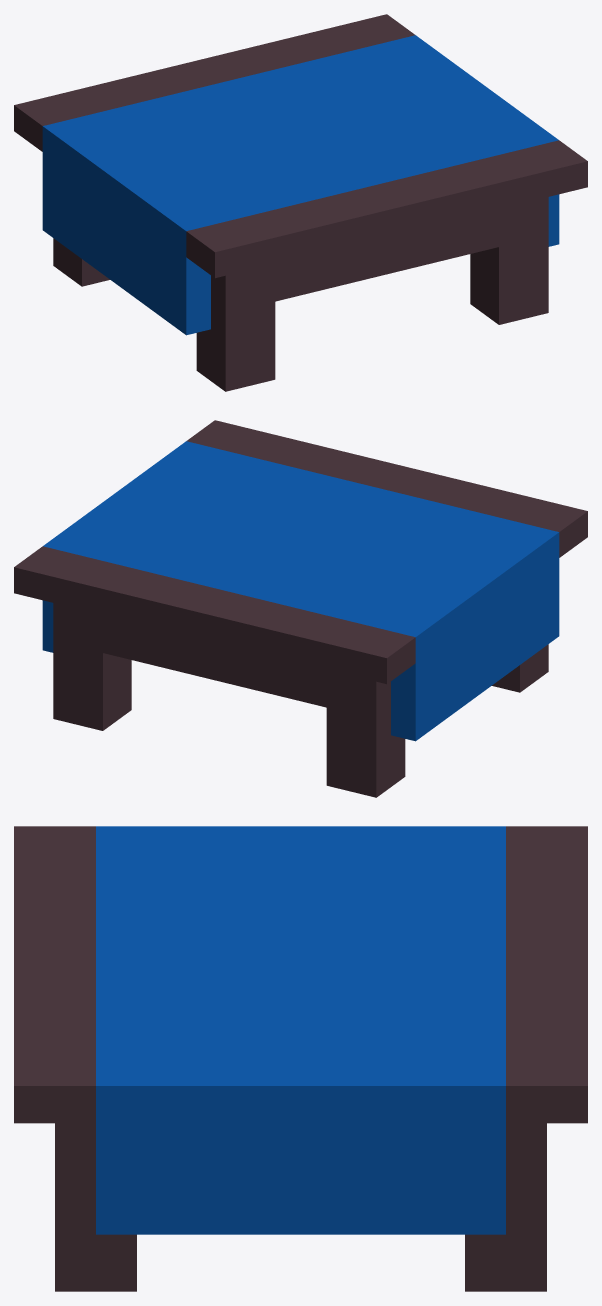
File: small_table_c_blue.obj
3 renders of one model, top to bottom at view 1: azimuth 30°, elevation 25°; view 2: azimuth 150°, elevation 25°; view 3: azimuth 270°, elevation 25°, orthographic. The views are drawn at different scales.
Bounding box in the file's own units: 1.5 × 0.6 × 1.4.
Materials: 1 (1 with a texture image).
